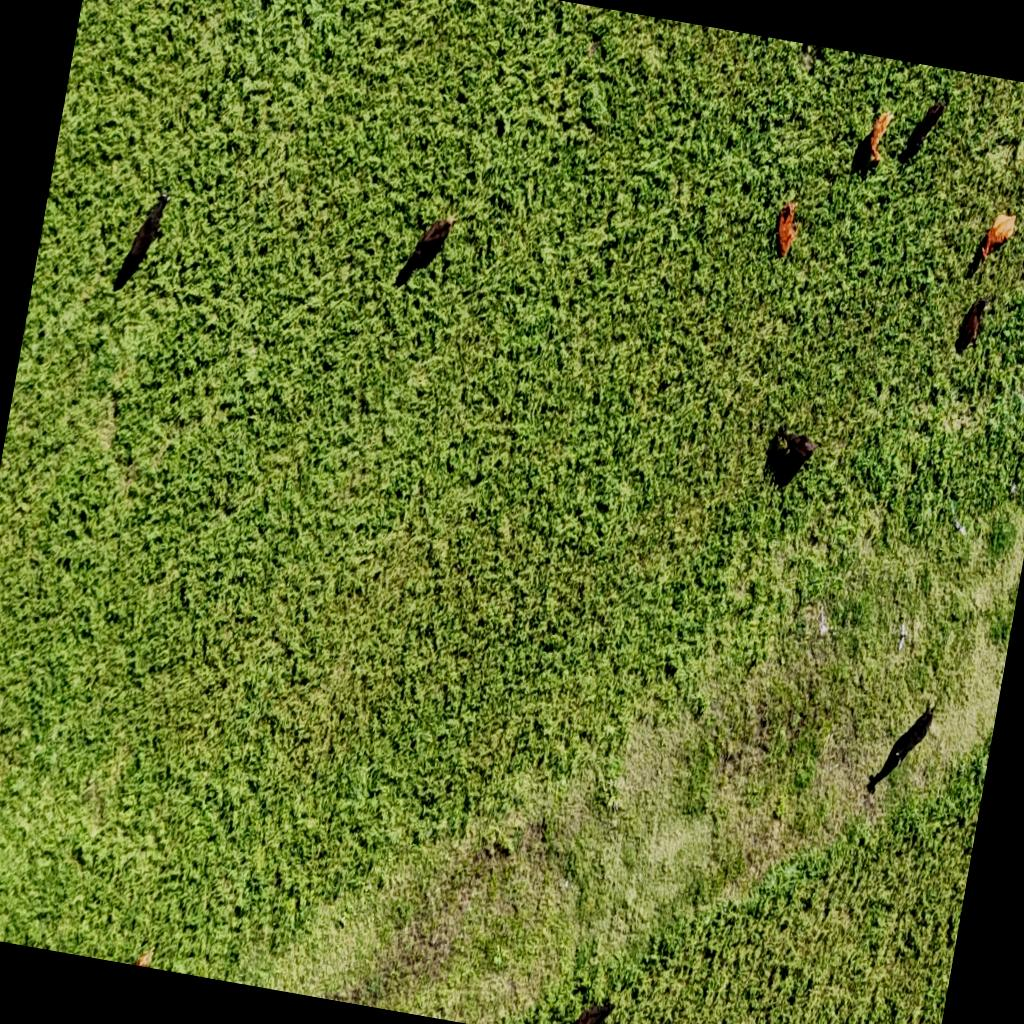cow: (118, 187, 172, 281), (408, 206, 459, 273), (974, 204, 1020, 272), (553, 990, 615, 1024), (772, 424, 818, 469), (772, 198, 804, 262), (956, 294, 988, 356), (898, 704, 934, 759), (866, 107, 896, 164), (918, 98, 946, 141), (778, 198, 797, 228), (134, 944, 154, 968), (930, 96, 948, 118)
